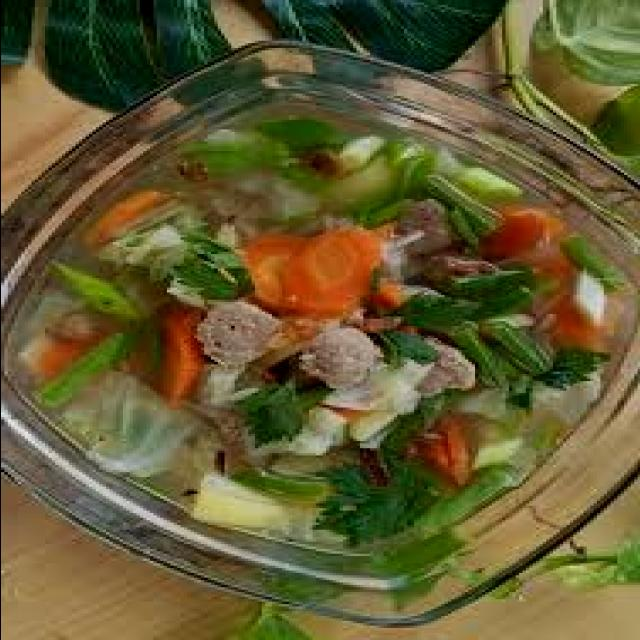sop: (3, 108, 603, 551)
